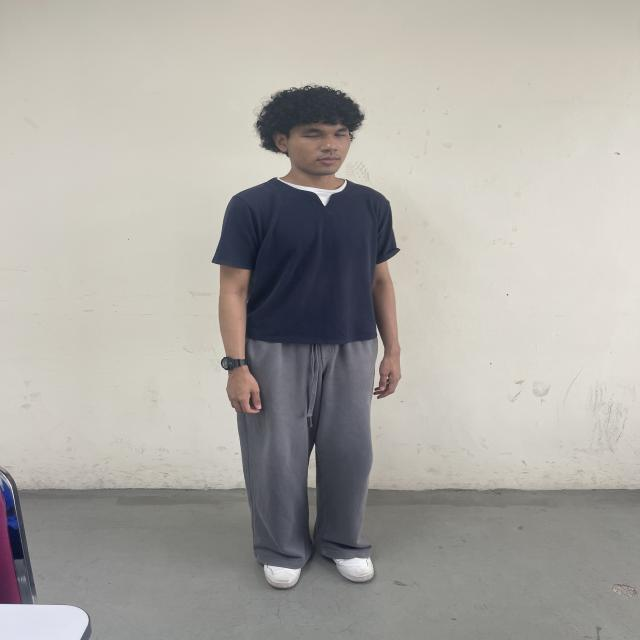person_without_labcoat: (212, 87, 401, 588)
